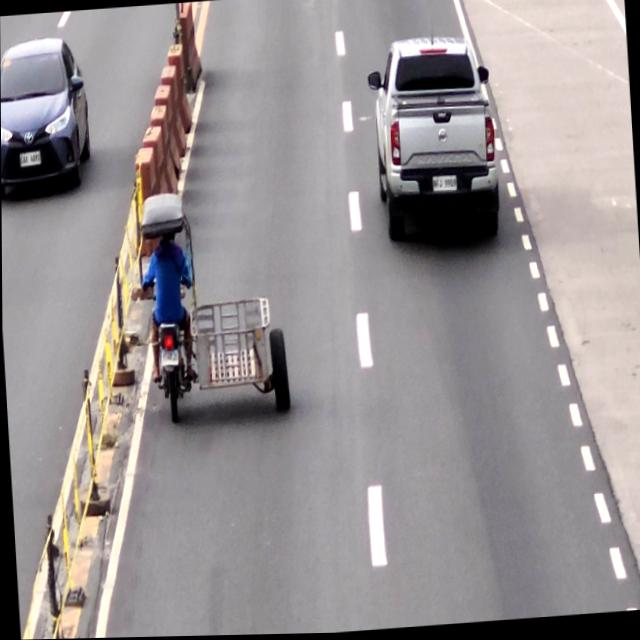Car: (366, 34, 503, 251)
License-Plate: (432, 177, 458, 195), (158, 349, 179, 368)
Tricycle: (137, 183, 291, 426)
